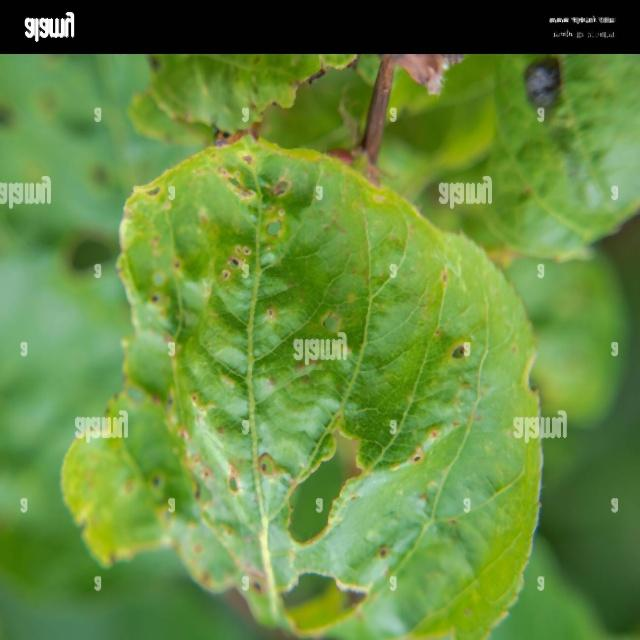shot_hole: (99, 138, 556, 638)
